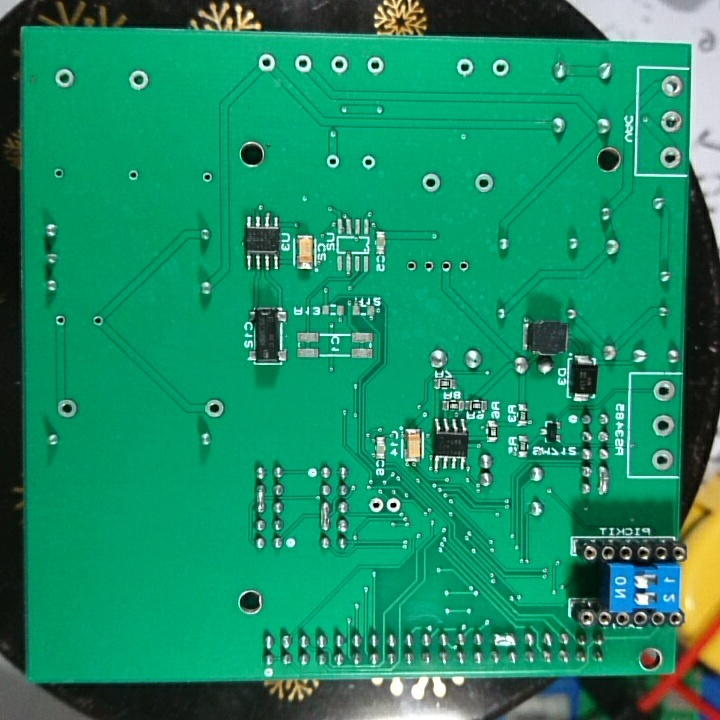F: (652, 376, 677, 406), (363, 52, 389, 79), (418, 170, 445, 196), (658, 73, 685, 99), (658, 108, 685, 134), (124, 67, 151, 92), (658, 144, 683, 171), (652, 413, 677, 440), (489, 54, 513, 82), (651, 446, 675, 473), (53, 66, 77, 92), (255, 50, 279, 76), (55, 395, 78, 422), (203, 397, 227, 422), (473, 170, 497, 195), (328, 51, 351, 76), (292, 50, 314, 76), (453, 55, 476, 79), (385, 494, 404, 517), (367, 495, 386, 516), (322, 153, 343, 171), (52, 312, 71, 329), (89, 312, 106, 331), (360, 153, 377, 172), (455, 258, 472, 277), (422, 257, 437, 277), (199, 168, 215, 186), (126, 168, 143, 184), (52, 166, 67, 183), (439, 257, 453, 275), (404, 259, 419, 274)
P: (490, 628, 520, 651), (597, 465, 615, 498), (318, 502, 334, 533), (252, 483, 268, 514)
